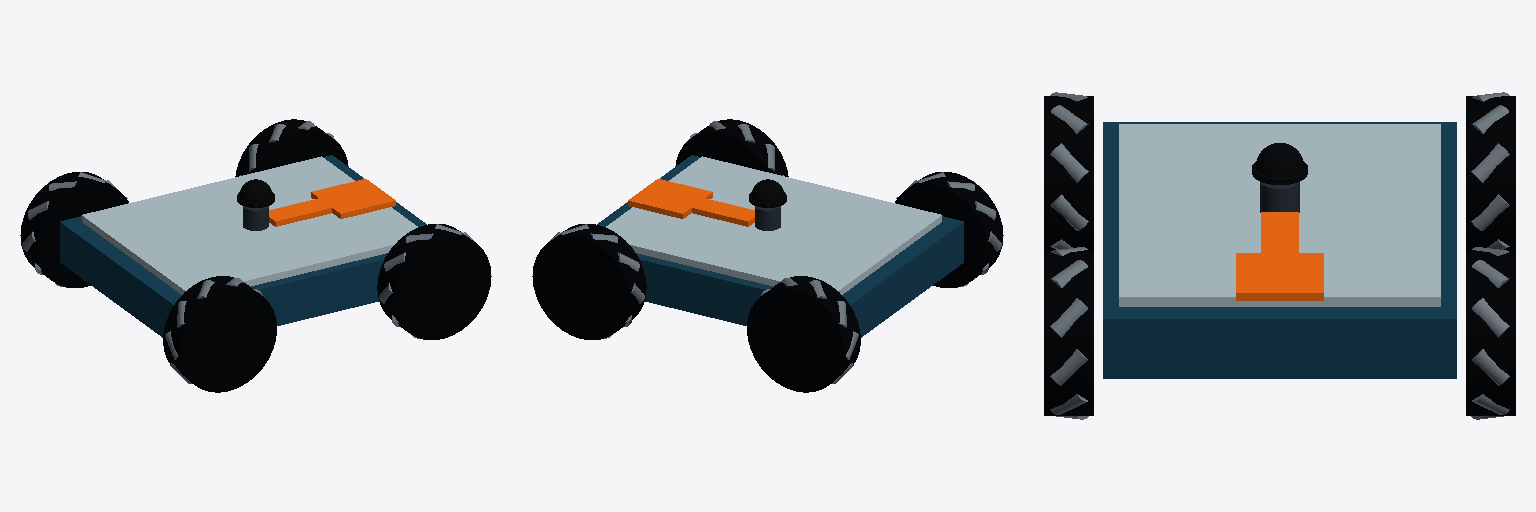
The robot description file, URDF, robot "mid360_mecanum":
<?xml version='1.0' encoding='utf-8'?>
<robot name="mid360_mecanum">
  <link name="base_link">
    <inertial>
      <origin xyz="0 0 0.08" />
      <mass value="8.0" />
      <inertia ixx="0.1" iyy="0.16" izz="0.22" ixy="0" ixz="0" iyz="0" />
    </inertial>
    <visual>
      <origin xyz="0 0 0.08" rpy="0 0 0" />
      <geometry>
        <box size="0.42 0.32 0.06" />
      </geometry>
      <material name="paint_base_link_2">
        <color rgba="0.1 0.27 0.36 1" />
      </material>
    </visual>
    <collision>
      <origin xyz="0 0 0.08" rpy="0 0 0" />
      <geometry>
        <box size="0.42 0.32 0.06" />
      </geometry>
    </collision>
    <visual>
      <origin xyz="0 0 0.115" rpy="0 0 0" />
      <geometry>
        <box size="0.37 0.29 0.01" />
      </geometry>
      <material name="paint_base_link_4">
        <color rgba="0.72 0.79 0.82 1" />
      </material>
    </visual>
    <visual>
      <origin xyz="0.15 0 0.124" rpy="0 0 0" />
      <geometry>
        <box size="0.085 0.08 0.008" />
      </geometry>
      <material name="paint_base_link_5">
        <color rgba="1 0.45 0.08 1" />
      </material>
    </visual>
    <visual>
      <origin xyz="0.08 0 0.124" rpy="0 0 0" />
      <geometry>
        <box size="0.12 0.035 0.008" />
      </geometry>
      <material name="paint_base_link_6">
        <color rgba="1 0.45 0.08 1" />
      </material>
    </visual>
  </link>
  <link name="sensor_mast">
    <inertial>
      <origin xyz="0 0 0" />
      <mass value="0.05" />
      <inertia ixx="0.001" iyy="0.001" izz="0.001" ixy="0" ixz="0" iyz="0" />
    </inertial>
    <visual>
      <origin xyz="0 0 0" rpy="0 0 0" />
      <geometry>
        <cylinder radius="0.018" length="0.04" />
      </geometry>
      <material name="paint_sensor_mast_2">
        <color rgba="0.18 0.21 0.24 1" />
      </material>
    </visual>
  </link>
  <joint name="mast_mount" type="fixed">
    <parent link="base_link" />
    <child link="sensor_mast" />
    <origin xyz="0 0 0.13" rpy="0 0 0" />
  </joint>
  <link name="imu_link">
    <inertial>
      <origin xyz="0 0 0" />
      <mass value="0.01" />
      <inertia ixx="0.001" iyy="0.001" izz="0.001" ixy="0" ixz="0" iyz="0" />
    </inertial>
  </link>
  <joint name="imu_mount" type="fixed">
    <parent link="base_link" />
    <child link="imu_link" />
    <origin xyz="0 0 0.15" rpy="0 0 0" />
  </joint>
  <link name="lidar_link">
    <inertial>
      <origin xyz="0 0 0" />
      <mass value="0.265" />
      <inertia ixx="0.001" iyy="0.001" izz="0.001" ixy="0" ixz="0" iyz="0" />
    </inertial>
    <visual>
      <origin xyz="0 0 0" rpy="1.57079632679 0 0" />
      <geometry>
        <mesh filename="package://nav_stack/meshes/mid360_housing.stl" scale="0.001 0.001 0.001" />
      </geometry>
      <material name="mid360_housing">
        <color rgba="0.32 0.35 0.38 1" />
      </material>
    </visual>
    <visual>
      <origin xyz="0 0 0" rpy="1.57079632679 0 0" />
      <geometry>
        <mesh filename="package://nav_stack/meshes/mid360_dome.stl" scale="0.001 0.001 0.001" />
      </geometry>
      <material name="mid360_dome">
        <color rgba="0.055 0.06 0.065 1" />
      </material>
    </visual>
  </link>
  <joint name="lidar_mount" type="fixed">
    <parent link="imu_link" />
    <child link="lidar_link" />
    <origin xyz="0 0 0" rpy="0 0 0" />
  </joint>
  <link name="front_left_wheel">
    <inertial>
      <origin xyz="0 0 0" />
      <mass value="0.3" />
      <inertia ixx="0.0006" iyy="0.001" izz="0.0006" ixy="0" ixz="0" iyz="0" />
    </inertial>
    <visual>
      <origin xyz="0 0 0" rpy="1.5707963 0 0" />
      <geometry>
        <cylinder radius="0.075" length="0.045" />
      </geometry>
      <material name="paint_front_left_wheel_2">
        <color rgba="0.035 0.04 0.05 1" />
      </material>
    </visual>
    <collision>
      <origin xyz="0 0 0" rpy="1.5707963 0 0" />
      <geometry>
        <cylinder radius="0.075" length="0.045" />
      </geometry>
    </collision>
    <visual>
      <origin xyz="0.067 0 0" rpy="0.78539816 0 0" />
      <geometry>
        <cylinder radius="0.01" length="0.036" />
      </geometry>
      <material name="paint_front_left_wheel_4">
        <color rgba="0.45 0.49 0.52 1" />
      </material>
    </visual>
    <visual>
      <origin xyz="0.054204139 0 0.039381612" rpy="0.78539816 -0.62831853 0" />
      <geometry>
        <cylinder radius="0.01" length="0.036" />
      </geometry>
      <material name="paint_front_left_wheel_5">
        <color rgba="0.45 0.49 0.52 1" />
      </material>
    </visual>
    <visual>
      <origin xyz="0.020704139 0 0.063720787" rpy="0.78539816 -1.2566371 5.5511151e-17" />
      <geometry>
        <cylinder radius="0.01" length="0.036" />
      </geometry>
      <material name="paint_front_left_wheel_6">
        <color rgba="0.45 0.49 0.52 1" />
      </material>
    </visual>
    <visual>
      <origin xyz="-0.020704139 0 0.063720787" rpy="-2.3561945 -1.2566371 -3.1415927" />
      <geometry>
        <cylinder radius="0.01" length="0.036" />
      </geometry>
      <material name="paint_front_left_wheel_7">
        <color rgba="0.45 0.49 0.52 1" />
      </material>
    </visual>
    <visual>
      <origin xyz="-0.054204139 0 0.039381612" rpy="-2.3561945 -0.62831853 -3.1415927" />
      <geometry>
        <cylinder radius="0.01" length="0.036" />
      </geometry>
      <material name="paint_front_left_wheel_8">
        <color rgba="0.45 0.49 0.52 1" />
      </material>
    </visual>
    <visual>
      <origin xyz="-0.067 0 8.2051336e-18" rpy="-2.3561945 0 -3.1415927" />
      <geometry>
        <cylinder radius="0.01" length="0.036" />
      </geometry>
      <material name="paint_front_left_wheel_9">
        <color rgba="0.45 0.49 0.52 1" />
      </material>
    </visual>
    <visual>
      <origin xyz="-0.054204139 0 -0.039381612" rpy="-2.3561945 0.62831853 -3.1415927" />
      <geometry>
        <cylinder radius="0.01" length="0.036" />
      </geometry>
      <material name="paint_front_left_wheel_10">
        <color rgba="0.45 0.49 0.52 1" />
      </material>
    </visual>
    <visual>
      <origin xyz="-0.020704139 0 -0.063720787" rpy="-2.3561945 1.2566371 3.1415927" />
      <geometry>
        <cylinder radius="0.01" length="0.036" />
      </geometry>
      <material name="paint_front_left_wheel_11">
        <color rgba="0.45 0.49 0.52 1" />
      </material>
    </visual>
    <visual>
      <origin xyz="0.020704139 0 -0.063720787" rpy="0.78539816 1.2566371 2.220446e-16" />
      <geometry>
        <cylinder radius="0.01" length="0.036" />
      </geometry>
      <material name="paint_front_left_wheel_12">
        <color rgba="0.45 0.49 0.52 1" />
      </material>
    </visual>
    <visual>
      <origin xyz="0.054204139 0 -0.039381612" rpy="0.78539816 0.62831853 -5.5511151e-17" />
      <geometry>
        <cylinder radius="0.01" length="0.036" />
      </geometry>
      <material name="paint_front_left_wheel_13">
        <color rgba="0.45 0.49 0.52 1" />
      </material>
    </visual>
  </link>
  <joint name="front_left_wheel_joint" type="continuous">
    <parent link="base_link" />
    <child link="front_left_wheel" />
    <origin xyz="0.165 0.19 0.075" rpy="0 0 0" />
    <axis xyz="0 1 0" />
    <limit effort="2" velocity="15" />
  </joint>
  <link name="front_right_wheel">
    <inertial>
      <origin xyz="0 0 0" />
      <mass value="0.3" />
      <inertia ixx="0.0006" iyy="0.001" izz="0.0006" ixy="0" ixz="0" iyz="0" />
    </inertial>
    <visual>
      <origin xyz="0 0 0" rpy="1.5707963 0 0" />
      <geometry>
        <cylinder radius="0.075" length="0.045" />
      </geometry>
      <material name="paint_front_right_wheel_2">
        <color rgba="0.035 0.04 0.05 1" />
      </material>
    </visual>
    <collision>
      <origin xyz="0 0 0" rpy="1.5707963 0 0" />
      <geometry>
        <cylinder radius="0.075" length="0.045" />
      </geometry>
    </collision>
    <visual>
      <origin xyz="0.067 0 0" rpy="-0.78539816 0 0" />
      <geometry>
        <cylinder radius="0.01" length="0.036" />
      </geometry>
      <material name="paint_front_right_wheel_4">
        <color rgba="0.45 0.49 0.52 1" />
      </material>
    </visual>
    <visual>
      <origin xyz="0.054204139 0 0.039381612" rpy="-0.78539816 -0.62831853 0" />
      <geometry>
        <cylinder radius="0.01" length="0.036" />
      </geometry>
      <material name="paint_front_right_wheel_5">
        <color rgba="0.45 0.49 0.52 1" />
      </material>
    </visual>
    <visual>
      <origin xyz="0.020704139 0 0.063720787" rpy="-0.78539816 -1.2566371 -5.5511151e-17" />
      <geometry>
        <cylinder radius="0.01" length="0.036" />
      </geometry>
      <material name="paint_front_right_wheel_6">
        <color rgba="0.45 0.49 0.52 1" />
      </material>
    </visual>
    <visual>
      <origin xyz="-0.020704139 0 0.063720787" rpy="2.3561945 -1.2566371 3.1415927" />
      <geometry>
        <cylinder radius="0.01" length="0.036" />
      </geometry>
      <material name="paint_front_right_wheel_7">
        <color rgba="0.45 0.49 0.52 1" />
      </material>
    </visual>
    <visual>
      <origin xyz="-0.054204139 0 0.039381612" rpy="2.3561945 -0.62831853 3.1415927" />
      <geometry>
        <cylinder radius="0.01" length="0.036" />
      </geometry>
      <material name="paint_front_right_wheel_8">
        <color rgba="0.45 0.49 0.52 1" />
      </material>
    </visual>
    <visual>
      <origin xyz="-0.067 0 8.2051336e-18" rpy="2.3561945 0 3.1415927" />
      <geometry>
        <cylinder radius="0.01" length="0.036" />
      </geometry>
      <material name="paint_front_right_wheel_9">
        <color rgba="0.45 0.49 0.52 1" />
      </material>
    </visual>
    <visual>
      <origin xyz="-0.054204139 0 -0.039381612" rpy="2.3561945 0.62831853 3.1415927" />
      <geometry>
        <cylinder radius="0.01" length="0.036" />
      </geometry>
      <material name="paint_front_right_wheel_10">
        <color rgba="0.45 0.49 0.52 1" />
      </material>
    </visual>
    <visual>
      <origin xyz="-0.020704139 0 -0.063720787" rpy="2.3561945 1.2566371 -3.1415927" />
      <geometry>
        <cylinder radius="0.01" length="0.036" />
      </geometry>
      <material name="paint_front_right_wheel_11">
        <color rgba="0.45 0.49 0.52 1" />
      </material>
    </visual>
    <visual>
      <origin xyz="0.020704139 0 -0.063720787" rpy="-0.78539816 1.2566371 -2.220446e-16" />
      <geometry>
        <cylinder radius="0.01" length="0.036" />
      </geometry>
      <material name="paint_front_right_wheel_12">
        <color rgba="0.45 0.49 0.52 1" />
      </material>
    </visual>
    <visual>
      <origin xyz="0.054204139 0 -0.039381612" rpy="-0.78539816 0.62831853 5.5511151e-17" />
      <geometry>
        <cylinder radius="0.01" length="0.036" />
      </geometry>
      <material name="paint_front_right_wheel_13">
        <color rgba="0.45 0.49 0.52 1" />
      </material>
    </visual>
  </link>
  <joint name="front_right_wheel_joint" type="continuous">
    <parent link="base_link" />
    <child link="front_right_wheel" />
    <origin xyz="0.165 -0.19 0.075" rpy="0 0 0" />
    <axis xyz="0 1 0" />
    <limit effort="2" velocity="15" />
  </joint>
  <link name="rear_left_wheel">
    <inertial>
      <origin xyz="0 0 0" />
      <mass value="0.3" />
      <inertia ixx="0.0006" iyy="0.001" izz="0.0006" ixy="0" ixz="0" iyz="0" />
    </inertial>
    <visual>
      <origin xyz="0 0 0" rpy="1.5707963 0 0" />
      <geometry>
        <cylinder radius="0.075" length="0.045" />
      </geometry>
      <material name="paint_rear_left_wheel_2">
        <color rgba="0.035 0.04 0.05 1" />
      </material>
    </visual>
    <collision>
      <origin xyz="0 0 0" rpy="1.5707963 0 0" />
      <geometry>
        <cylinder radius="0.075" length="0.045" />
      </geometry>
    </collision>
    <visual>
      <origin xyz="0.067 0 0" rpy="-0.78539816 0 0" />
      <geometry>
        <cylinder radius="0.01" length="0.036" />
      </geometry>
      <material name="paint_rear_left_wheel_4">
        <color rgba="0.45 0.49 0.52 1" />
      </material>
    </visual>
    <visual>
      <origin xyz="0.054204139 0 0.039381612" rpy="-0.78539816 -0.62831853 0" />
      <geometry>
        <cylinder radius="0.01" length="0.036" />
      </geometry>
      <material name="paint_rear_left_wheel_5">
        <color rgba="0.45 0.49 0.52 1" />
      </material>
    </visual>
    <visual>
      <origin xyz="0.020704139 0 0.063720787" rpy="-0.78539816 -1.2566371 -5.5511151e-17" />
      <geometry>
        <cylinder radius="0.01" length="0.036" />
      </geometry>
      <material name="paint_rear_left_wheel_6">
        <color rgba="0.45 0.49 0.52 1" />
      </material>
    </visual>
    <visual>
      <origin xyz="-0.020704139 0 0.063720787" rpy="2.3561945 -1.2566371 3.1415927" />
      <geometry>
        <cylinder radius="0.01" length="0.036" />
      </geometry>
      <material name="paint_rear_left_wheel_7">
        <color rgba="0.45 0.49 0.52 1" />
      </material>
    </visual>
    <visual>
      <origin xyz="-0.054204139 0 0.039381612" rpy="2.3561945 -0.62831853 3.1415927" />
      <geometry>
        <cylinder radius="0.01" length="0.036" />
      </geometry>
      <material name="paint_rear_left_wheel_8">
        <color rgba="0.45 0.49 0.52 1" />
      </material>
    </visual>
    <visual>
      <origin xyz="-0.067 0 8.2051336e-18" rpy="2.3561945 0 3.1415927" />
      <geometry>
        <cylinder radius="0.01" length="0.036" />
      </geometry>
      <material name="paint_rear_left_wheel_9">
        <color rgba="0.45 0.49 0.52 1" />
      </material>
    </visual>
    <visual>
      <origin xyz="-0.054204139 0 -0.039381612" rpy="2.3561945 0.62831853 3.1415927" />
      <geometry>
        <cylinder radius="0.01" length="0.036" />
      </geometry>
      <material name="paint_rear_left_wheel_10">
        <color rgba="0.45 0.49 0.52 1" />
      </material>
    </visual>
    <visual>
      <origin xyz="-0.020704139 0 -0.063720787" rpy="2.3561945 1.2566371 -3.1415927" />
      <geometry>
        <cylinder radius="0.01" length="0.036" />
      </geometry>
      <material name="paint_rear_left_wheel_11">
        <color rgba="0.45 0.49 0.52 1" />
      </material>
    </visual>
    <visual>
      <origin xyz="0.020704139 0 -0.063720787" rpy="-0.78539816 1.2566371 -2.220446e-16" />
      <geometry>
        <cylinder radius="0.01" length="0.036" />
      </geometry>
      <material name="paint_rear_left_wheel_12">
        <color rgba="0.45 0.49 0.52 1" />
      </material>
    </visual>
    <visual>
      <origin xyz="0.054204139 0 -0.039381612" rpy="-0.78539816 0.62831853 5.5511151e-17" />
      <geometry>
        <cylinder radius="0.01" length="0.036" />
      </geometry>
      <material name="paint_rear_left_wheel_13">
        <color rgba="0.45 0.49 0.52 1" />
      </material>
    </visual>
  </link>
  <joint name="rear_left_wheel_joint" type="continuous">
    <parent link="base_link" />
    <child link="rear_left_wheel" />
    <origin xyz="-0.165 0.19 0.075" rpy="0 0 0" />
    <axis xyz="0 1 0" />
    <limit effort="2" velocity="15" />
  </joint>
  <link name="rear_right_wheel">
    <inertial>
      <origin xyz="0 0 0" />
      <mass value="0.3" />
      <inertia ixx="0.0006" iyy="0.001" izz="0.0006" ixy="0" ixz="0" iyz="0" />
    </inertial>
    <visual>
      <origin xyz="0 0 0" rpy="1.5707963 0 0" />
      <geometry>
        <cylinder radius="0.075" length="0.045" />
      </geometry>
      <material name="paint_rear_right_wheel_2">
        <color rgba="0.035 0.04 0.05 1" />
      </material>
    </visual>
    <collision>
      <origin xyz="0 0 0" rpy="1.5707963 0 0" />
      <geometry>
        <cylinder radius="0.075" length="0.045" />
      </geometry>
    </collision>
    <visual>
      <origin xyz="0.067 0 0" rpy="0.78539816 0 0" />
      <geometry>
        <cylinder radius="0.01" length="0.036" />
      </geometry>
      <material name="paint_rear_right_wheel_4">
        <color rgba="0.45 0.49 0.52 1" />
      </material>
    </visual>
    <visual>
      <origin xyz="0.054204139 0 0.039381612" rpy="0.78539816 -0.62831853 0" />
      <geometry>
        <cylinder radius="0.01" length="0.036" />
      </geometry>
      <material name="paint_rear_right_wheel_5">
        <color rgba="0.45 0.49 0.52 1" />
      </material>
    </visual>
    <visual>
      <origin xyz="0.020704139 0 0.063720787" rpy="0.78539816 -1.2566371 5.5511151e-17" />
      <geometry>
        <cylinder radius="0.01" length="0.036" />
      </geometry>
      <material name="paint_rear_right_wheel_6">
        <color rgba="0.45 0.49 0.52 1" />
      </material>
    </visual>
    <visual>
      <origin xyz="-0.020704139 0 0.063720787" rpy="-2.3561945 -1.2566371 -3.1415927" />
      <geometry>
        <cylinder radius="0.01" length="0.036" />
      </geometry>
      <material name="paint_rear_right_wheel_7">
        <color rgba="0.45 0.49 0.52 1" />
      </material>
    </visual>
    <visual>
      <origin xyz="-0.054204139 0 0.039381612" rpy="-2.3561945 -0.62831853 -3.1415927" />
      <geometry>
        <cylinder radius="0.01" length="0.036" />
      </geometry>
      <material name="paint_rear_right_wheel_8">
        <color rgba="0.45 0.49 0.52 1" />
      </material>
    </visual>
    <visual>
      <origin xyz="-0.067 0 8.2051336e-18" rpy="-2.3561945 0 -3.1415927" />
      <geometry>
        <cylinder radius="0.01" length="0.036" />
      </geometry>
      <material name="paint_rear_right_wheel_9">
        <color rgba="0.45 0.49 0.52 1" />
      </material>
    </visual>
    <visual>
      <origin xyz="-0.054204139 0 -0.039381612" rpy="-2.3561945 0.62831853 -3.1415927" />
      <geometry>
        <cylinder radius="0.01" length="0.036" />
      </geometry>
      <material name="paint_rear_right_wheel_10">
        <color rgba="0.45 0.49 0.52 1" />
      </material>
    </visual>
    <visual>
      <origin xyz="-0.020704139 0 -0.063720787" rpy="-2.3561945 1.2566371 3.1415927" />
      <geometry>
        <cylinder radius="0.01" length="0.036" />
      </geometry>
      <material name="paint_rear_right_wheel_11">
        <color rgba="0.45 0.49 0.52 1" />
      </material>
    </visual>
    <visual>
      <origin xyz="0.020704139 0 -0.063720787" rpy="0.78539816 1.2566371 2.220446e-16" />
      <geometry>
        <cylinder radius="0.01" length="0.036" />
      </geometry>
      <material name="paint_rear_right_wheel_12">
        <color rgba="0.45 0.49 0.52 1" />
      </material>
    </visual>
    <visual>
      <origin xyz="0.054204139 0 -0.039381612" rpy="0.78539816 0.62831853 -5.5511151e-17" />
      <geometry>
        <cylinder radius="0.01" length="0.036" />
      </geometry>
      <material name="paint_rear_right_wheel_13">
        <color rgba="0.45 0.49 0.52 1" />
      </material>
    </visual>
  </link>
  <joint name="rear_right_wheel_joint" type="continuous">
    <parent link="base_link" />
    <child link="rear_right_wheel" />
    <origin xyz="-0.165 -0.19 0.075" rpy="0 0 0" />
    <axis xyz="0 1 0" />
    <limit effort="2" velocity="15" />
  </joint>
</robot>

--- What the picture shows (computed from the rendered views, not written in the file) ---
The picture shows the robot from 3 angles, left to right: view 1: azimuth 30°, elevation 25°; view 2: azimuth 150°, elevation 25°; view 3: azimuth 270°, elevation 25°; orthographic projection.
Robot: mid360_mecanum — 8 links, 7 joints (4 continuous, 3 fixed); root link base_link; default pose: every joint at zero.
Links seen in each view (by area): view 1: base_link, rear_right_wheel, front_right_wheel, rear_left_wheel, front_left_wheel, lidar_link, sensor_mast; view 2: base_link, rear_left_wheel, front_left_wheel, rear_right_wheel, front_right_wheel, lidar_link, sensor_mast; view 3: base_link, front_left_wheel, front_right_wheel, rear_left_wheel, rear_right_wheel, lidar_link, sensor_mast.
Boxes of the visible links, bbox=[...] form: base_link: bbox=[60, 155, 426, 337]; rear_right_wheel: bbox=[163, 276, 276, 392]; front_right_wheel: bbox=[377, 224, 491, 339]; rear_left_wheel: bbox=[20, 172, 128, 287]; front_left_wheel: bbox=[235, 119, 348, 176]; lidar_link: bbox=[237, 179, 274, 207]; sensor_mast: bbox=[243, 206, 268, 230]; base_link: bbox=[597, 155, 963, 337]; rear_left_wheel: bbox=[747, 276, 860, 392]; front_left_wheel: bbox=[532, 224, 646, 339]; rear_right_wheel: bbox=[895, 172, 1003, 287]; front_right_wheel: bbox=[675, 119, 788, 176]; lidar_link: bbox=[749, 179, 786, 207]; sensor_mast: bbox=[755, 206, 780, 230]; base_link: bbox=[1103, 122, 1456, 378]; front_left_wheel: bbox=[1466, 247, 1515, 419]; front_right_wheel: bbox=[1044, 247, 1093, 419]; rear_left_wheel: bbox=[1466, 92, 1515, 249]; rear_right_wheel: bbox=[1044, 92, 1093, 249]; lidar_link: bbox=[1252, 143, 1307, 184]; sensor_mast: bbox=[1260, 182, 1299, 212].
Size in the robot's own frame: 0.484 by 0.425 by 0.1866 metres.
1 mesh visuals loaded from 2 distinct referenced files (1 binary STL); not drawn: 1 (reference not matched to a file when rendering).
